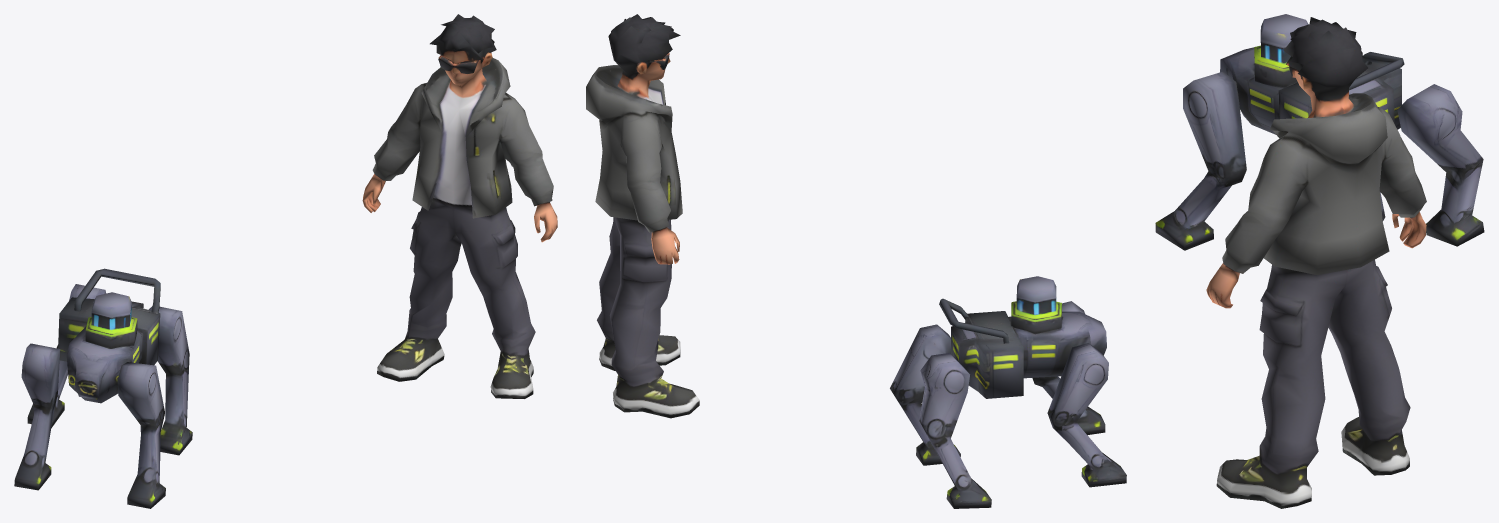
File: characters_placed_v10.glb
3 views of the same model, side by side, from view 1: azimuth 30°, elevation 25°; view 2: azimuth 150°, elevation 25°; view 3: azimuth 270°, elevation 25° (orthographic). The views are drawn at different scales.
Parts seen in each view (by area): view 1: BlindPerson, RobotDog; view 2: BlindPerson, RobotDog; view 3: BlindPerson, RobotDog.
Part boxes in pixels (left/top/right/bottom): BlindPerson: left=362, top=14, right=557, bottom=398; RobotDog: left=14, top=268, right=192, bottom=508; BlindPerson: left=586, top=14, right=699, bottom=418; RobotDog: left=890, top=276, right=1126, bottom=508; BlindPerson: left=1206, top=17, right=1426, bottom=508; RobotDog: left=1155, top=14, right=1484, bottom=250.
Bounding box in the file's own units: 2.75 × 1.81 × 1.18.
2 materials, 2 textured.
